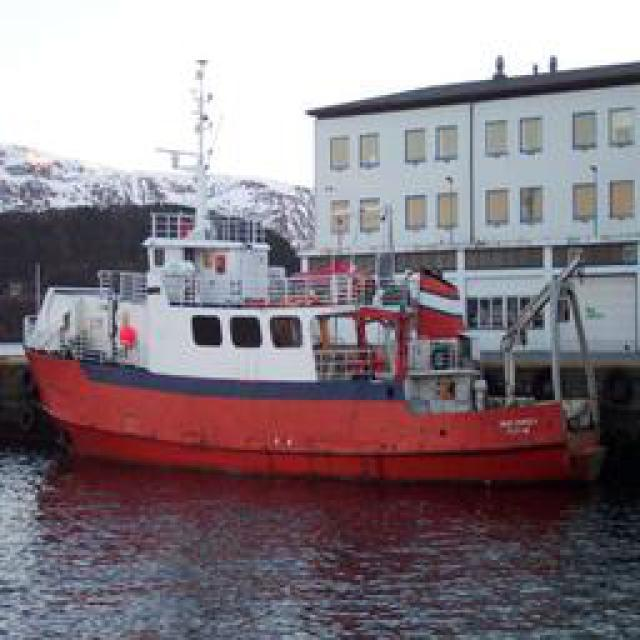Ship: (21, 206, 621, 479)
